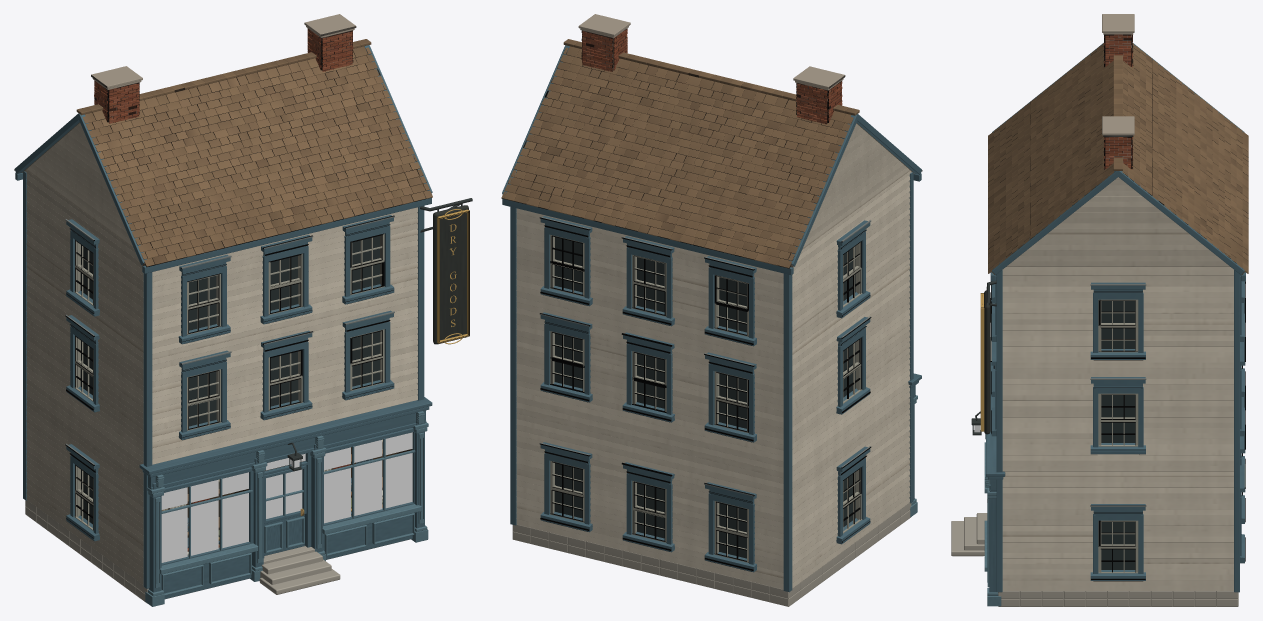
Rendered from DryGoodsV06.fbx.
3 views of the same model, side by side, from view 1: azimuth 30°, elevation 25°; view 2: azimuth 150°, elevation 25°; view 3: azimuth 270°, elevation 25° (orthographic). The views are drawn at different scales.
Visible parts, largest first — view 1: DG_Shell.001, DG_Roof.001, DG_Storefront.001, DG_WindowFrames, DG_StoreGlass, DG_Door, DG_DoorGlass, DG_Pane_front_5, DG_Pane_front_3, DG_Pane_front_2, DG_Pane_front_0, DG_Pane_front_4 (+1 smaller); view 2: DG_Shell.001, DG_Roof.001, DG_WindowFrames, DG_Pane_rear_11, DG_Pane_rear_14, DG_Pane_rear_8, DG_Pane_rear_10, DG_Pane_rear_9, DG_Pane_rear_12, DG_Pane_rear_13, DG_Pane_rear_7, DG_Pane_rear_6; view 3: DG_Shell.001, DG_Roof.001, DG_WindowFrames, DG_Storefront.001, DG_Pane_right_18, DG_Pane_right_20, DG_Pane_right_19.
Boxes of the visible parts, left/top/right/bottom form: DG_Shell.001: left=22, top=122, right=424, bottom=603; DG_Roof.001: left=14, top=14, right=432, bottom=273; DG_Storefront.001: left=139, top=198, right=472, bottom=606; DG_WindowFrames: left=65, top=215, right=394, bottom=541; DG_StoreGlass: left=161, top=432, right=412, bottom=562; DG_Door: left=264, top=465, right=306, bottom=555; DG_DoorGlass: left=266, top=469, right=302, bottom=518; DG_Pane_front_5: left=352, top=236, right=379, bottom=290; DG_Pane_front_3: left=189, top=276, right=216, bottom=330; DG_Pane_front_2: left=352, top=331, right=379, bottom=386; DG_Pane_front_0: left=189, top=371, right=216, bottom=426; DG_Pane_front_4: left=270, top=256, right=298, bottom=310; DG_Shell.001: left=510, top=123, right=914, bottom=606; DG_Roof.001: left=501, top=14, right=922, bottom=275; DG_WindowFrames: left=539, top=216, right=871, bottom=572; DG_Pane_rear_11: left=554, top=333, right=582, bottom=388; DG_Pane_rear_14: left=554, top=237, right=582, bottom=292; DG_Pane_rear_8: left=554, top=463, right=582, bottom=518; DG_Pane_rear_10: left=637, top=353, right=664, bottom=408; DG_Pane_rear_9: left=719, top=373, right=746, bottom=428; DG_Pane_rear_12: left=719, top=277, right=746, bottom=332; DG_Pane_rear_13: left=637, top=257, right=664, bottom=312; DG_Pane_rear_7: left=637, top=483, right=664, bottom=538; DG_Pane_rear_6: left=719, top=503, right=746, bottom=558; DG_Shell.001: left=992, top=177, right=1244, bottom=606; DG_Roof.001: left=988, top=14, right=1248, bottom=281; DG_WindowFrames: left=990, top=274, right=1245, bottom=581; DG_Storefront.001: left=951, top=280, right=1005, bottom=606; DG_Pane_right_18: left=1101, top=522, right=1135, bottom=569; DG_Pane_right_20: left=1101, top=301, right=1135, bottom=348; DG_Pane_right_19: left=1101, top=395, right=1135, bottom=442.
Bounding box in the file's own units: 929 × 1290 × 744.
